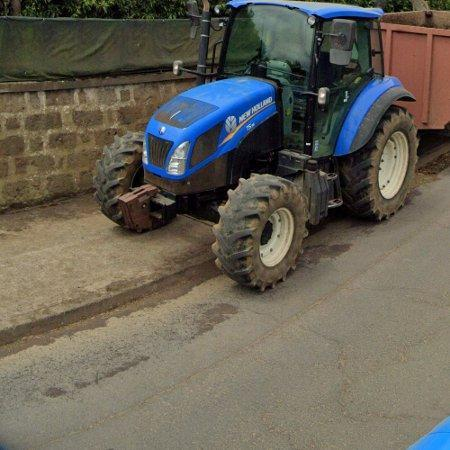tractors: (96, 0, 419, 289), (190, 123, 222, 166)
